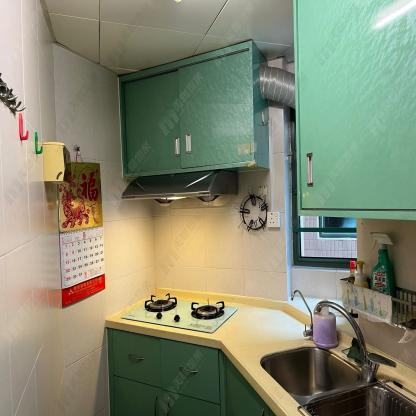Cupboard: (292, 0, 416, 219), (119, 40, 270, 176)
Exhaust Hood: (119, 169, 243, 220)
Faucet: (316, 299, 397, 383), (291, 290, 314, 345)
Sink: (256, 344, 416, 416)
Stove: (108, 291, 251, 340)
